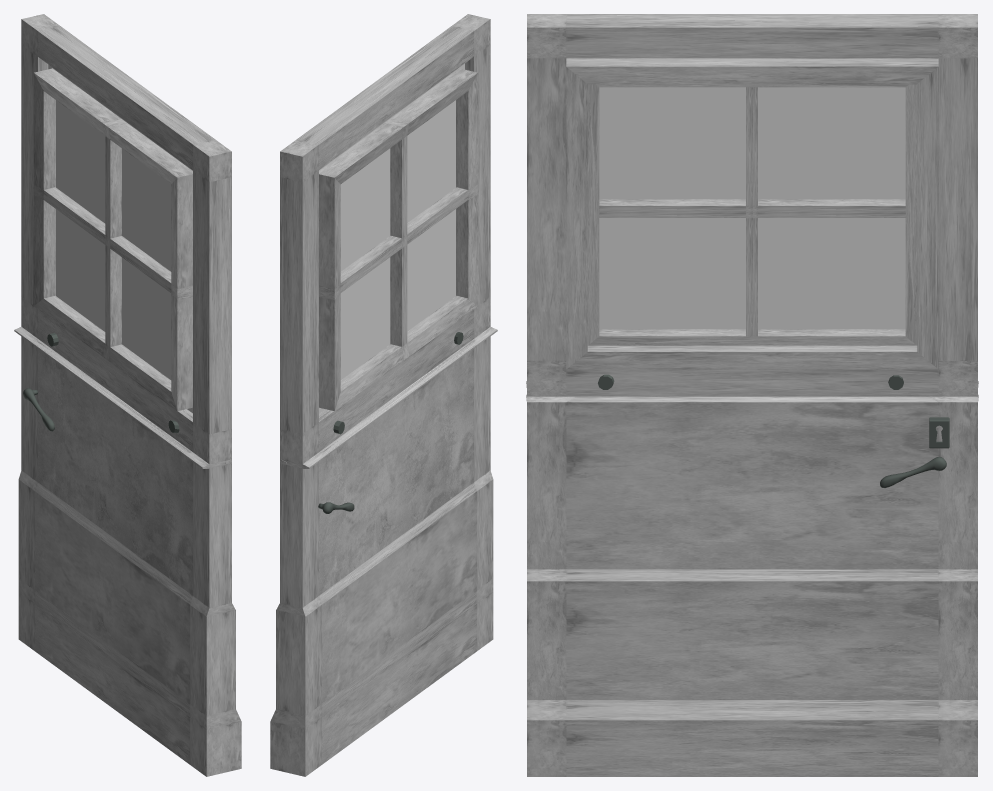
3 renders of one model, left to right at view 1: azimuth 30°, elevation 25°; view 2: azimuth 150°, elevation 25°; view 3: azimuth 270°, elevation 25°, orthographic. The views are drawn at different scales.
Parts seen in each view (by area): view 1: door8, Cube; view 2: door8, Cube; view 3: door8, Cube, door8.001.
Part boxes in pixels (<box>): door8: <box>14,14,241,776</box>; Cube: <box>48,64,192,413</box>; door8: <box>270,14,497,776</box>; Cube: <box>319,63,464,413</box>; door8: <box>526,14,978,776</box>; Cube: <box>599,87,905,329</box>; door8.001: <box>880,417,949,487</box>.
Bounding box in the file's own units: 0.2751 × 3.27 × 1.8.
3 materials, 1 textured.
